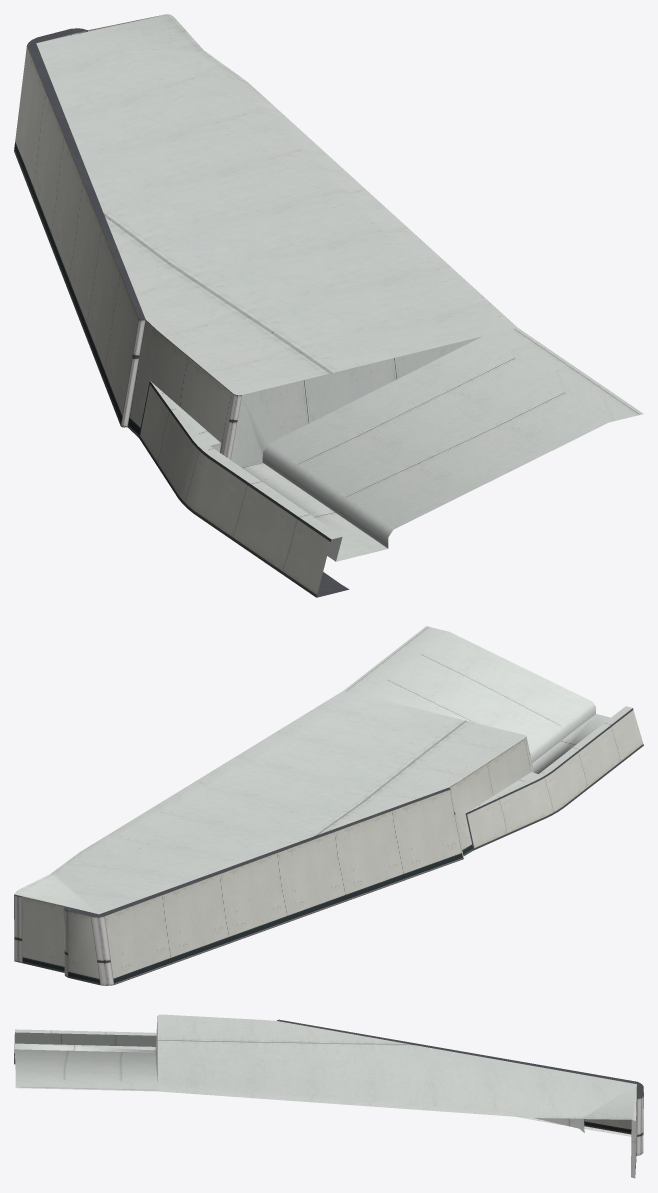
Rendered from STA20_OfficeExtUp01.FBX.
3 renders of one model, top to bottom at view 1: azimuth 30°, elevation 25°; view 2: azimuth 150°, elevation 25°; view 3: azimuth 270°, elevation 25°, orthographic. The views are drawn at different scales.
Parts seen in each view (by area): view 1: STA20_OfficeExtUp01; view 2: STA20_OfficeExtUp01; view 3: STA20_OfficeExtUp01.
Boxes of the visible parts, box(x1,y1,x2,y2) form: STA20_OfficeExtUp01: box(14, 14, 643, 597); STA20_OfficeExtUp01: box(14, 626, 643, 985); STA20_OfficeExtUp01: box(14, 1014, 643, 1178).
Size of the model in its own units: 23.36 by 6.87 by 56.13.
